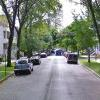Car: (13, 50, 46, 80)
